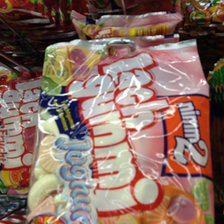candy: (40, 40, 212, 224)
